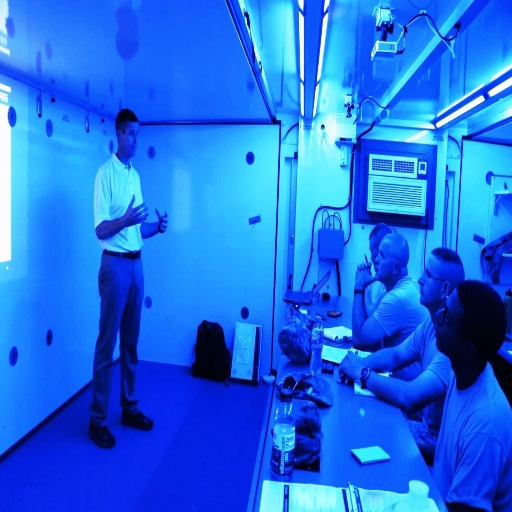hand: (123, 195, 149, 229), (338, 347, 364, 378), (353, 268, 380, 294), (153, 207, 168, 234), (335, 370, 350, 386), (357, 260, 372, 271)
